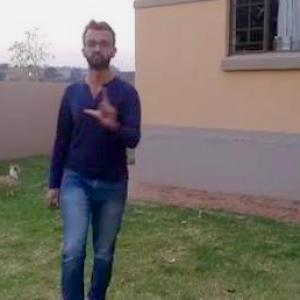land_hand: (82, 79, 128, 128)
